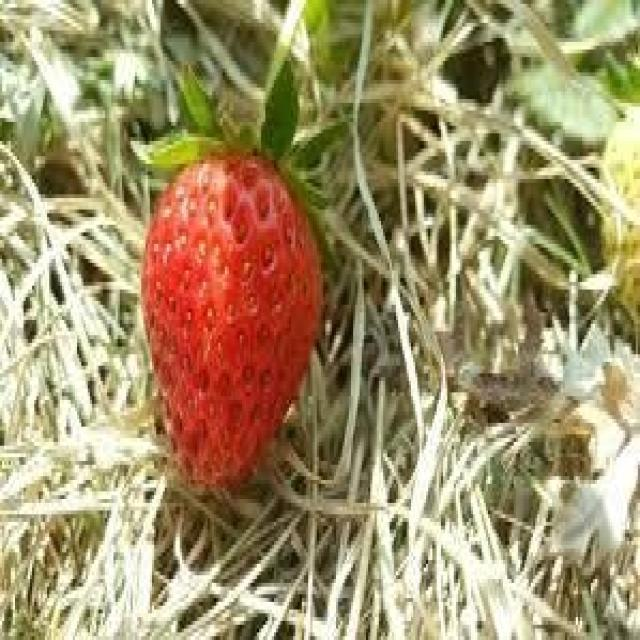strawberry: (140, 153, 322, 492)
